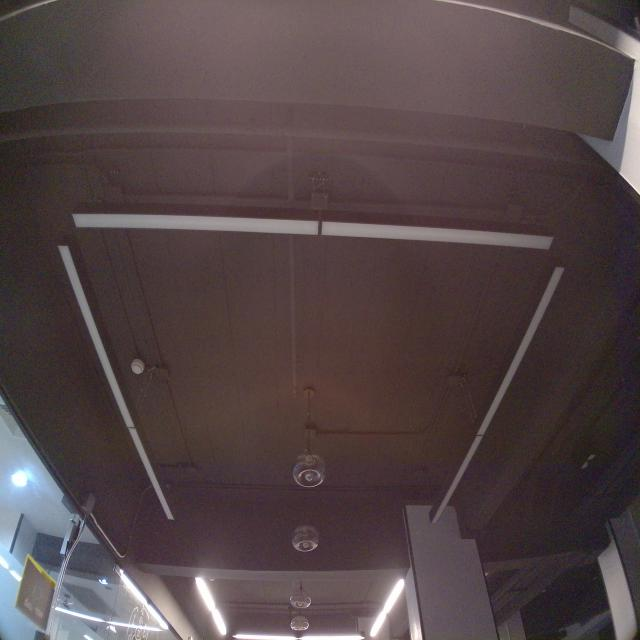lamp2_off: (423, 263, 572, 529), (53, 238, 180, 527), (67, 200, 569, 263)
